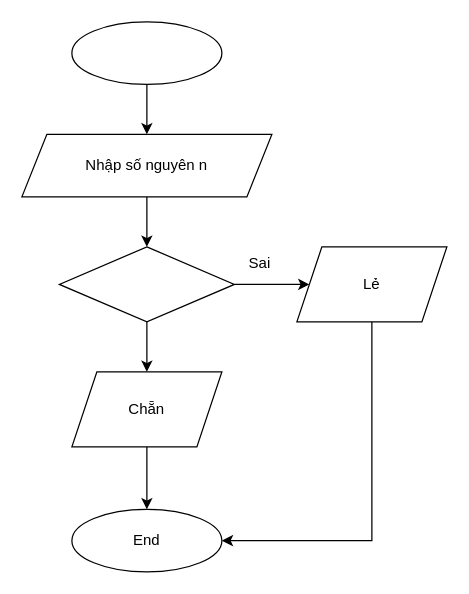
Image size: 469x594. Some labels were removed from this diagram. The centre of each missing label's shape, as x and y in pixels:
Kiểm tra n % 2 == 0?: point (146, 284)
Start: point (146, 52)
